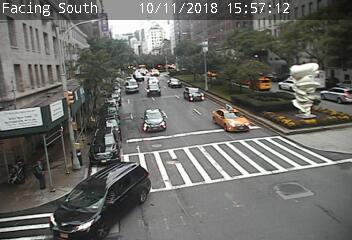car: (212, 108, 249, 132), (142, 108, 165, 132), (183, 87, 204, 101), (147, 83, 160, 96), (167, 78, 182, 88), (147, 77, 158, 85)
